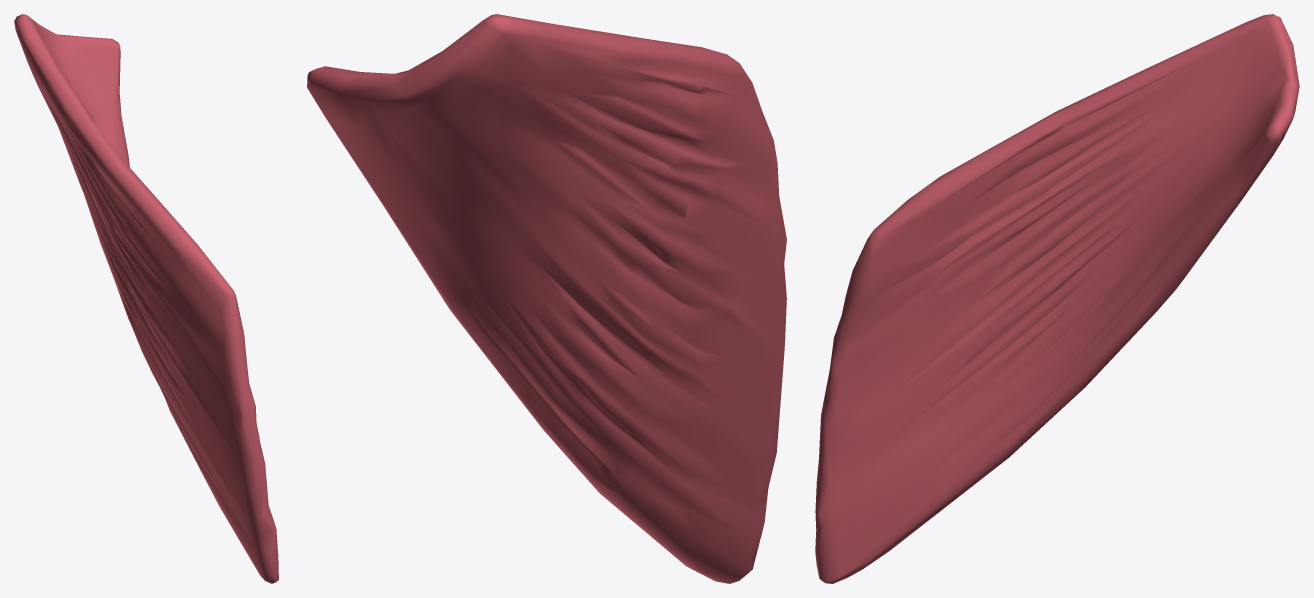
The picture shows the model from 3 angles, left to right: view 1: azimuth 30°, elevation 25°; view 2: azimuth 150°, elevation 25°; view 3: azimuth 270°, elevation 25°; orthographic projection. The views are drawn at different scales.
Parts seen in each view (by area): view 1: 右侧舌骨舌肌; view 2: 右侧舌骨舌肌; view 3: 右侧舌骨舌肌.
Part boxes in pixels (<box>): 右侧舌骨舌肌: <box>14,14,278,583</box>; 右侧舌骨舌肌: <box>307,14,786,583</box>; 右侧舌骨舌肌: <box>815,14,1299,583</box>.
Size of the model in its own units: 0.0116 by 0.0453 by 0.0373.
